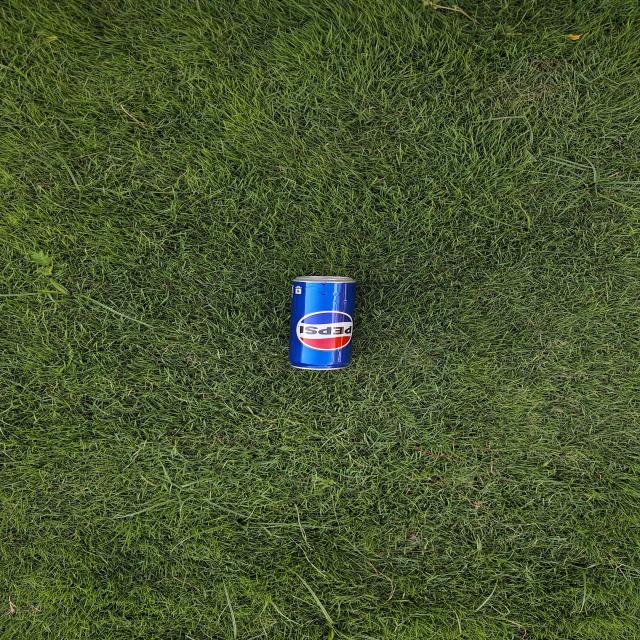Pepsi: (279, 276, 354, 366)
